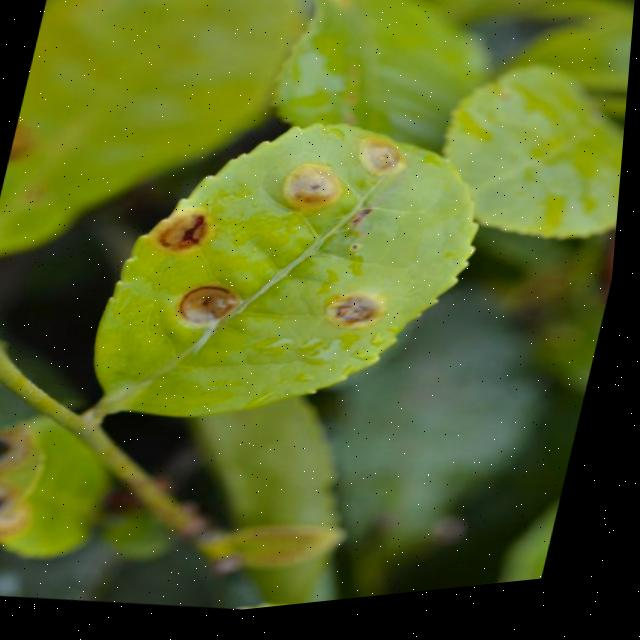Tea cake: (150, 197, 228, 268), (180, 273, 257, 343), (324, 287, 410, 347), (282, 165, 350, 230), (356, 141, 419, 197)
